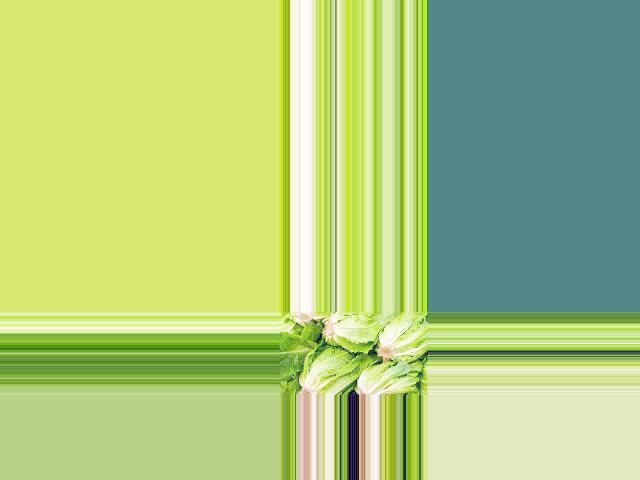lettuce: (278, 332, 313, 366)
